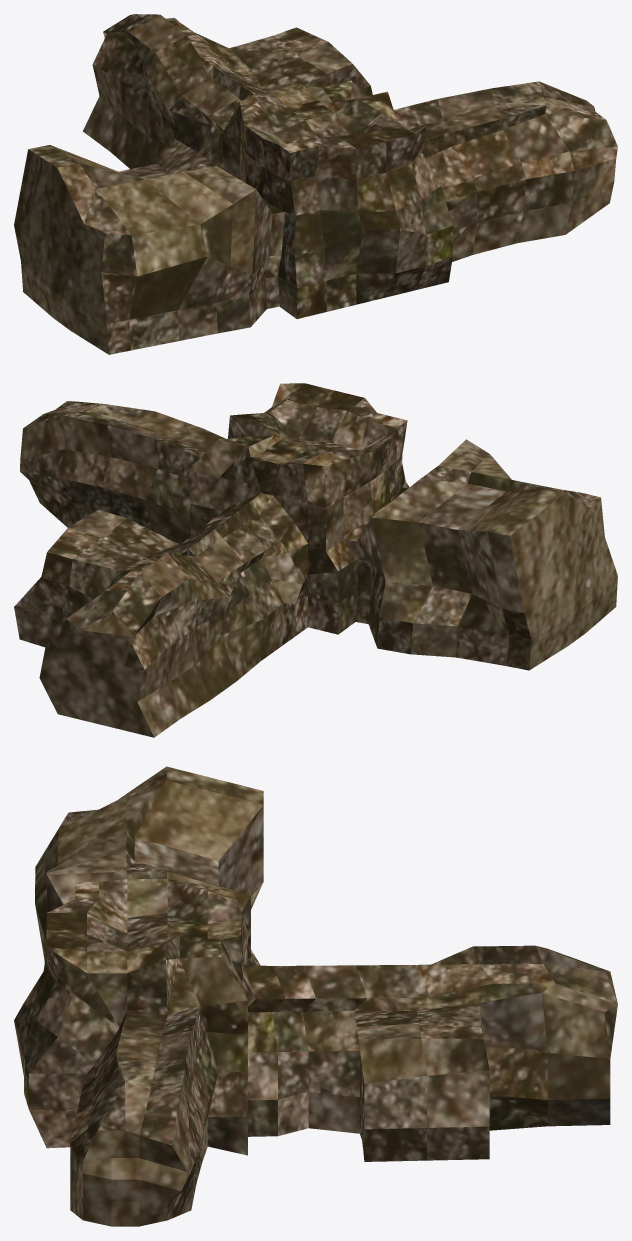
File: outside_level_2.FBX
The picture shows the model from 3 angles, top to bottom: view 1: azimuth 30°, elevation 25°; view 2: azimuth 150°, elevation 25°; view 3: azimuth 270°, elevation 25°; orthographic projection. The views are drawn at different scales.
Visible parts, largest first — view 1: Object002; view 2: Object002; view 3: Object002.
Part boxes in pixels (left/top/right/bottom): Object002: left=14, top=14, right=617, bottom=354; Object002: left=14, top=383, right=617, bottom=737; Object002: left=14, top=766, right=617, bottom=1226.
Size of the model in its own units: 544 by 450 by 155.
Materials: 1 (1 with a texture image).
